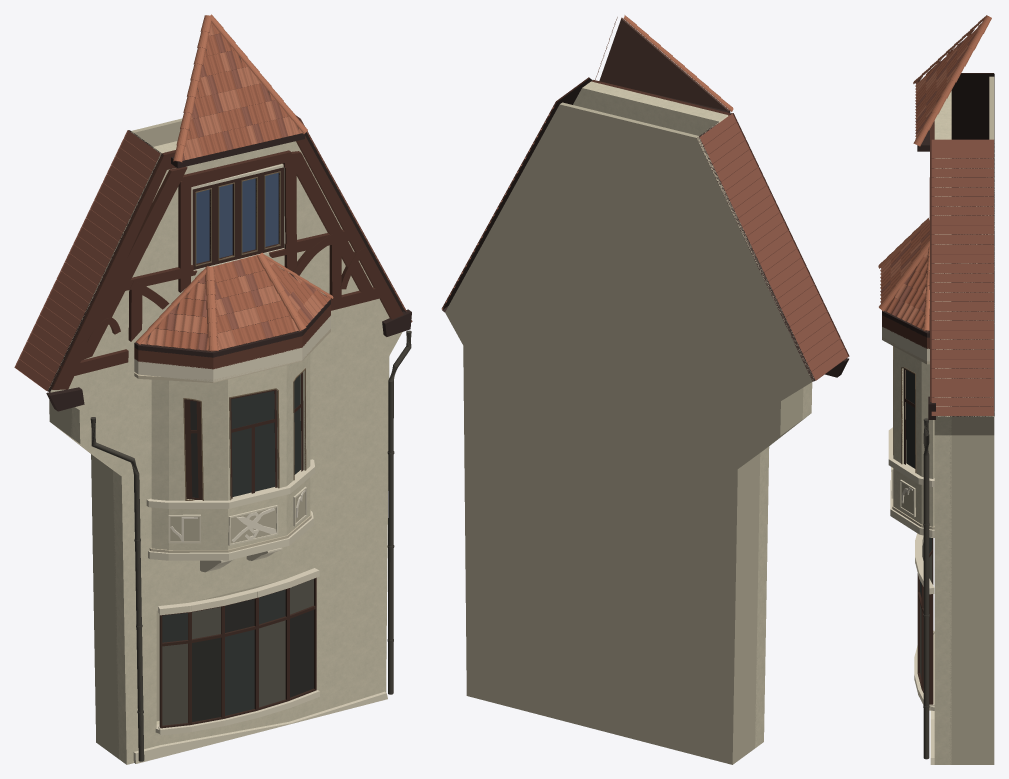
Rendered from changning-hongqiao-1518-timber-gable-oriel-web.glb.
3 views of the same model, side by side, from view 1: azimuth 30°, elevation 25°; view 2: azimuth 150°, elevation 25°; view 3: azimuth 270°, elevation 25° (orthographic). The views are drawn at different scales.
Parts seen in each view (by area): view 1: 虹桥路1518号的木构山墙与三面凸窗; view 2: 虹桥路1518号的木构山墙与三面凸窗; view 3: 虹桥路1518号的木构山墙与三面凸窗.
Boxes of the visible parts, box(x1,y1,x2,y2) form: 虹桥路1518号的木构山墙与三面凸窗: box(14, 14, 412, 764); 虹桥路1518号的木构山墙与三面凸窗: box(441, 15, 849, 764); 虹桥路1518号的木构山墙与三面凸窗: box(878, 15, 994, 764).
Bounding box in the file's own units: 7.25 × 13.3 × 2.05.
Materials: 23 (1 with a texture image).
